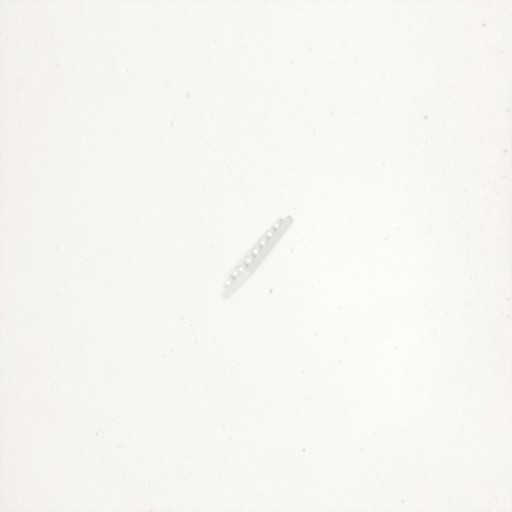lego: (220, 216, 294, 301)
